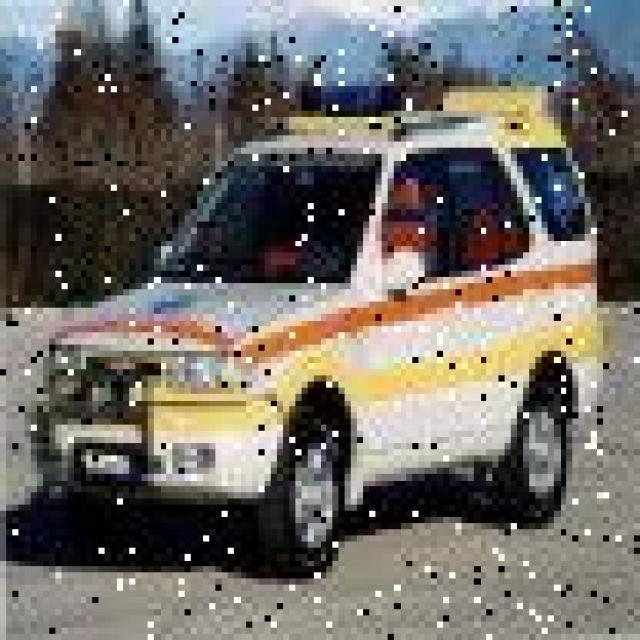emergency-vehicle: (0, 31, 640, 610)
